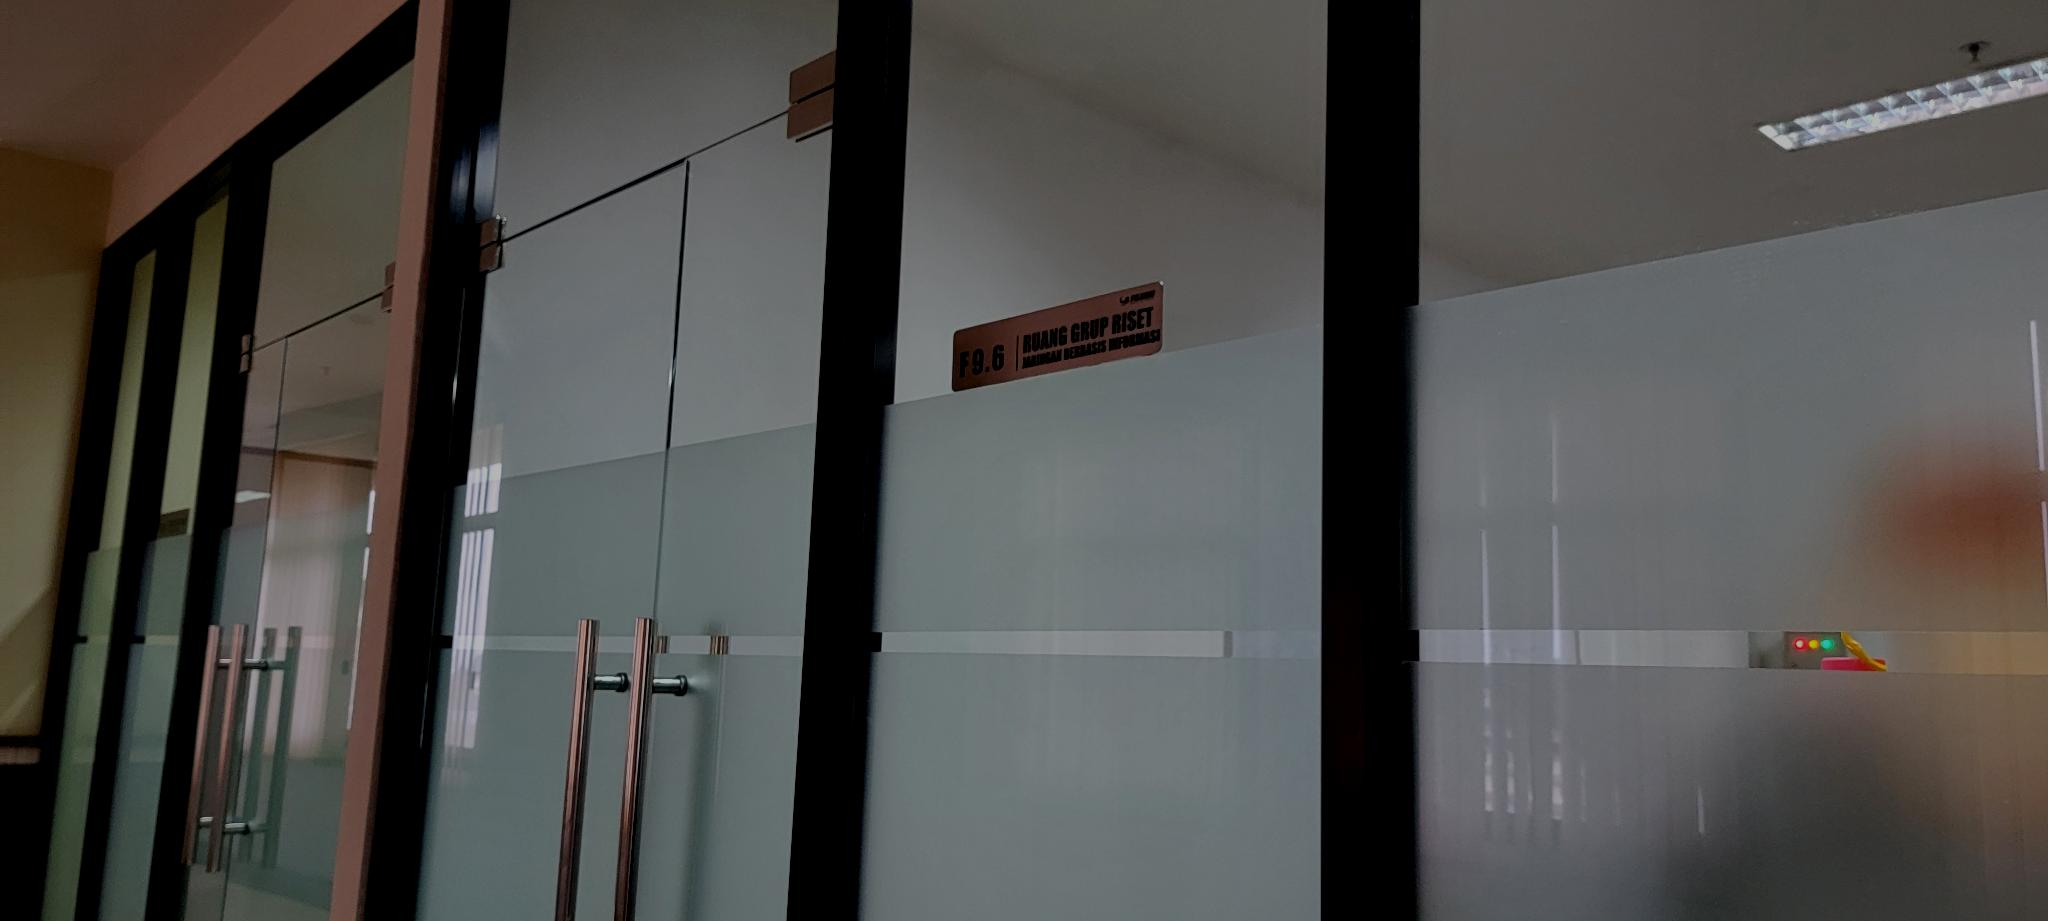plate: (950, 281, 1165, 396)
